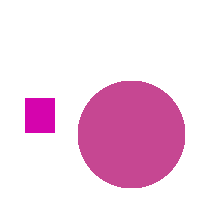circle: (78, 81, 184, 187)
rectangle: (25, 98, 54, 132)
